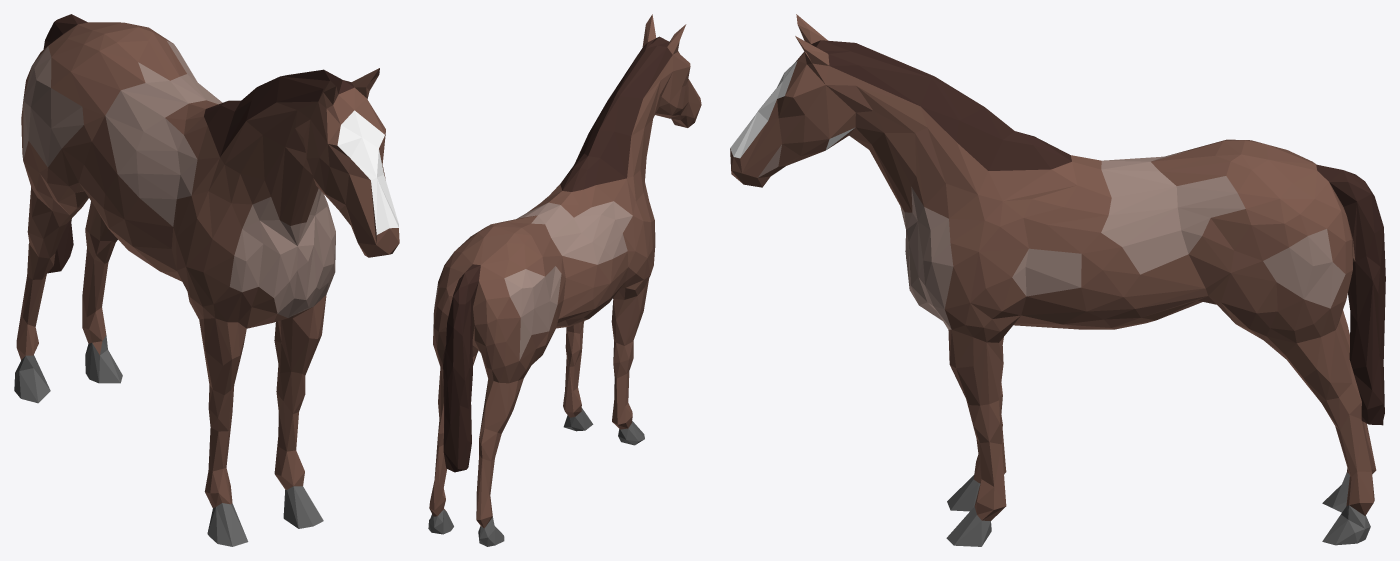
File: animal_005.glb
3 renders of one model, left to right at view 1: azimuth 30°, elevation 25°; view 2: azimuth 150°, elevation 25°; view 3: azimuth 270°, elevation 25°, orthographic. The views are drawn at different scales.
Parts seen in each view (by area): view 1: animal_005; view 2: animal_005; view 3: animal_005.
Part boxes in pixels (x1,y1,x2,y2): animal_005: [14, 14, 399, 546]; animal_005: [428, 14, 701, 546]; animal_005: [730, 14, 1385, 546].
Bounding box in the file's own units: 1.11 × 3.74 × 4.45.
1 material, 1 textured.
